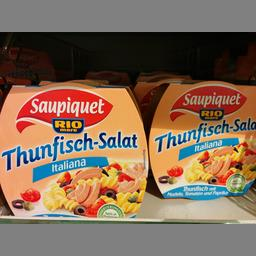fish: (0, 82, 146, 217), (148, 76, 254, 198)
